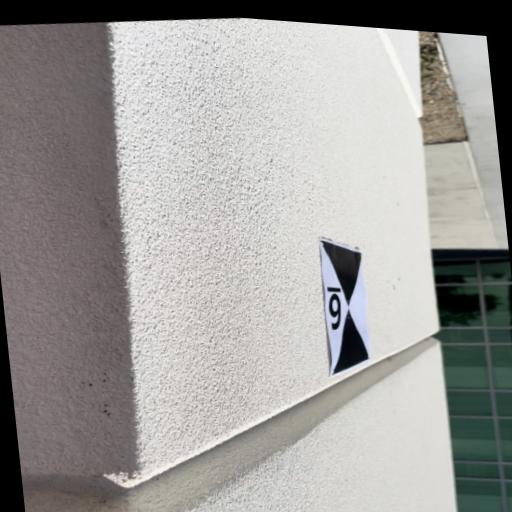target6: (319, 237, 376, 377)
